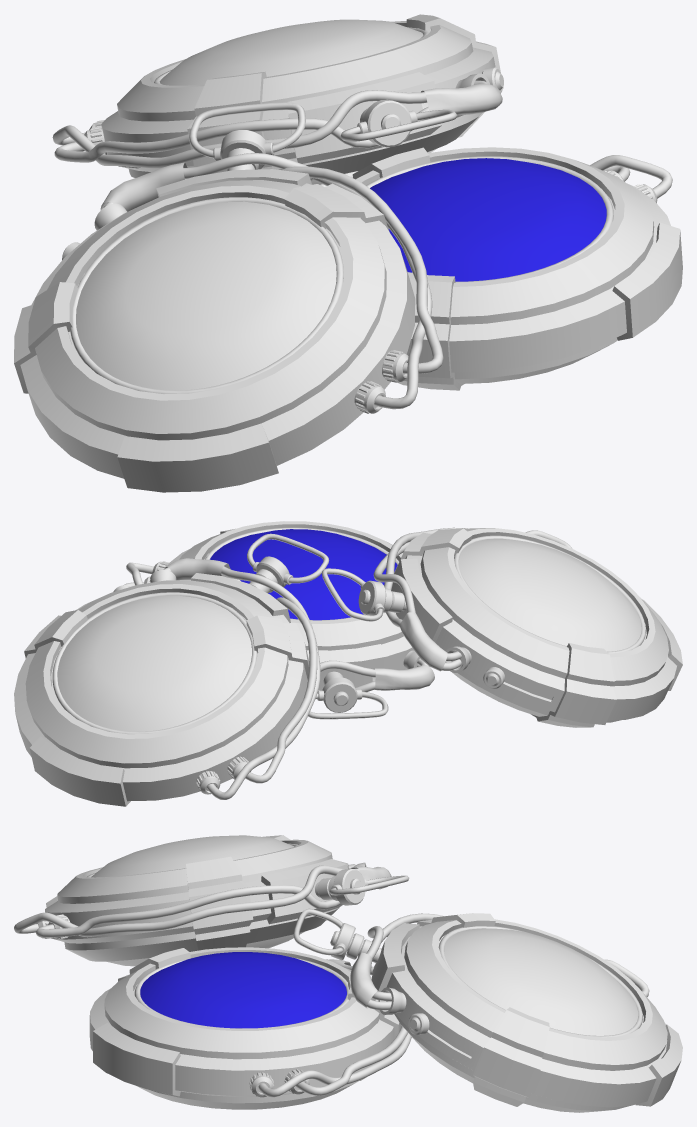
File: Sketchfab_showcase.fbx
3 views of the same model, one above another, from view 1: azimuth 30°, elevation 25°; view 2: azimuth 150°, elevation 25°; view 3: azimuth 270°, elevation 25° (orthographic). The views are drawn at different scales.
Parts seen in each view (by area): view 1: Core_low.002, Glass_low.002, Core_low.001, Glass_low.001, Core_low.003, Glass_low.003, Metal_plate_4_low.002, Metal_plate_4_low.001, Metal_plate_3_low.003, Gum_low.002, Cable_1_low.003, Cable_2_low.003 (+18 smaller); view 2: Core_low.003, Glass_low.003, Core_low.002, Glass_low.002, Glass_low.001, Core_low.001, Metal_plate_2_low.002, Metal_plate_4_low.003, Gum_low.003, Cable_1_low.003, Metal_plate_3_low.002, Cable_2_low.003 (+20 smaller); view 3: Core_low.003, Core_low.001, Glass_low.003, Core_low.002, Glass_low.001, Metal_plate_2_low.003, Glass_low.002, Metal_plate_1_low.002, Metal_plate_4_low.001, Cable_1_low.002, Cable_2_low.002, Metal_plate_3_low.002 (+15 smaller).
Part boxes in pixels (x1,y1,x2,y2): Core_low.002: (20,180,415,478); Glass_low.002: (76,201,336,390); Core_low.001: (355,147,670,383); Glass_low.001: (370,158,606,281); Core_low.003: (101,21,495,184); Glass_low.003: (159,19,423,85); Metal_plate_4_low.002: (117,424,278,492); Metal_plate_4_low.001: (612,222,682,340); Metal_plate_3_low.003: (287,72,442,163); Gum_low.002: (70,197,343,393); Cable_1_low.003: (52,90,427,168); Cable_2_low.003: (54,80,488,162); Core_low.003: (14,580,307,801); Glass_low.003: (57,595,251,731); Core_low.002: (405,528,676,722); Glass_low.002: (459,538,641,651); Glass_low.001: (210,529,397,620); Core_low.001: (167,521,413,669); Metal_plate_2_low.002: (531,643,616,727); Metal_plate_4_low.003: (29,736,130,806); Gum_low.003: (52,592,257,734); Cable_1_low.003: (207,566,320,799); Metal_plate_3_low.002: (391,558,452,642); Cable_2_low.003: (163,567,317,783); Core_low.003: (387,919,667,1112); Core_low.001: (89,947,394,1109); Glass_low.003: (444,928,638,1035); Core_low.002: (45,839,348,966); Glass_low.001: (140,952,346,1028); Metal_plate_2_low.003: (473,1007,549,1106); Glass_low.002: (91,835,294,877); Metal_plate_1_low.002: (186,856,253,950); Metal_plate_4_low.001: (93,1023,180,1096); Cable_1_low.002: (14,865,359,937); Cable_2_low.002: (36,885,340,937); Metal_plate_3_low.002: (261,859,347,924).
Size of the model in its own units: 28.21 by 8.27 by 31.56.
